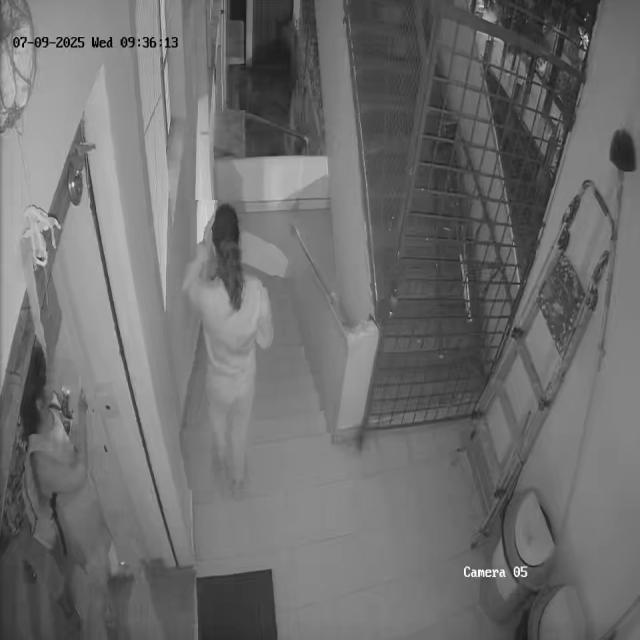person: (180, 201, 275, 491)
